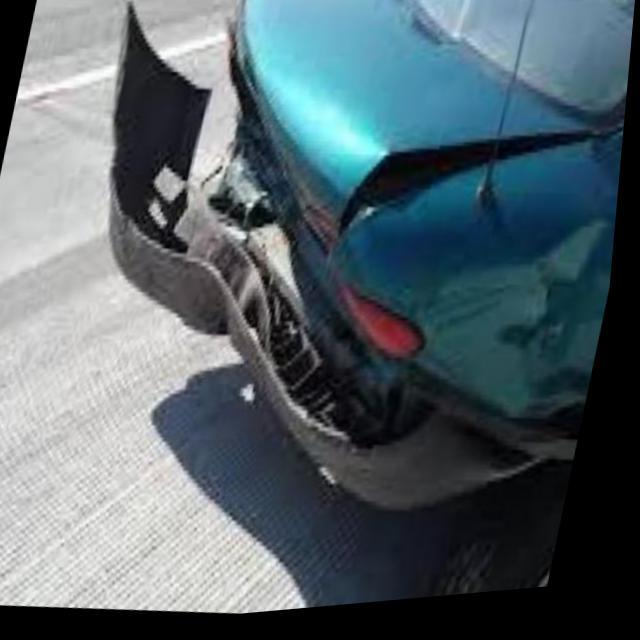dislocated part: (107, 3, 600, 499)
